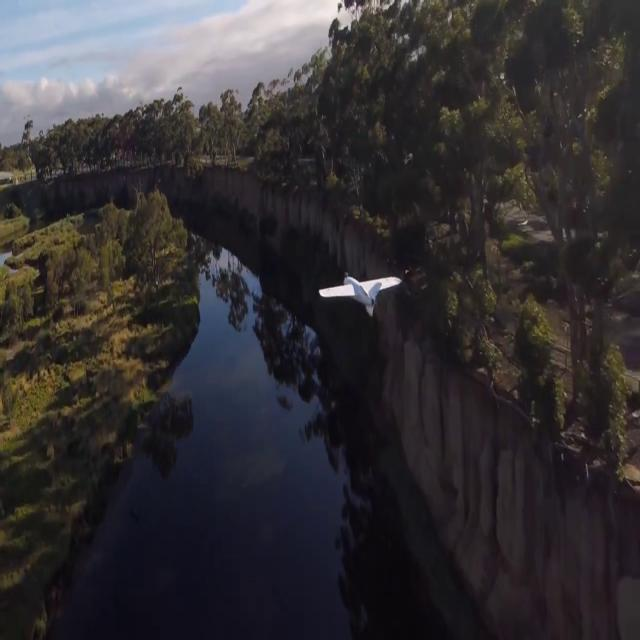iha: (351, 273, 371, 319)
